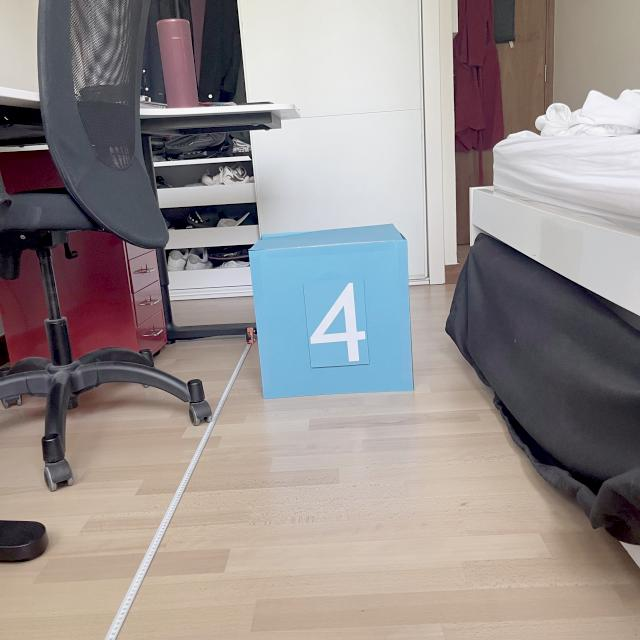box: (243, 219, 418, 401)
